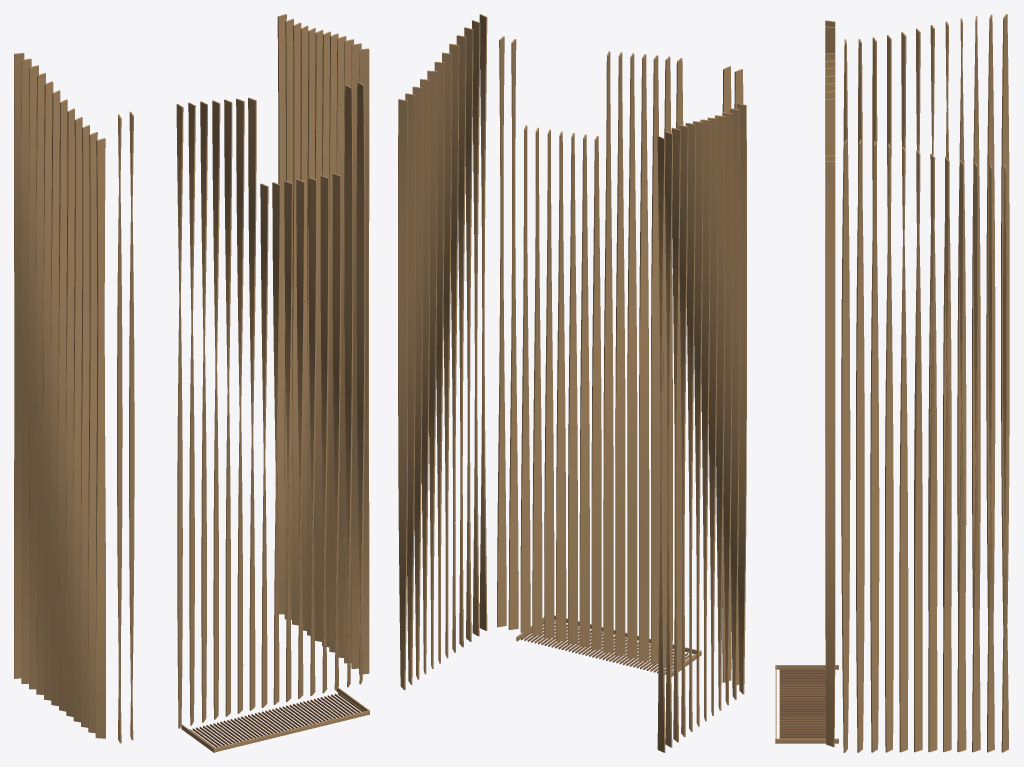
The model's file is tower-brise-soleil.glb.
3 renders of one model, left to right at view 1: azimuth 30°, elevation 25°; view 2: azimuth 150°, elevation 25°; view 3: azimuth 270°, elevation 25°, orthographic. The views are drawn at different scales.
Visible parts, largest first — view 1: tower-brise-soleil; view 2: tower-brise-soleil; view 3: tower-brise-soleil.
Boxes of the visible parts, <box> form: tower-brise-soleil: <box>14,14,369,752</box>; tower-brise-soleil: <box>398,14,746,752</box>; tower-brise-soleil: <box>775,14,1009,752</box>.
Size of the model in its own units: 34.95 by 77.68 by 26.75.
